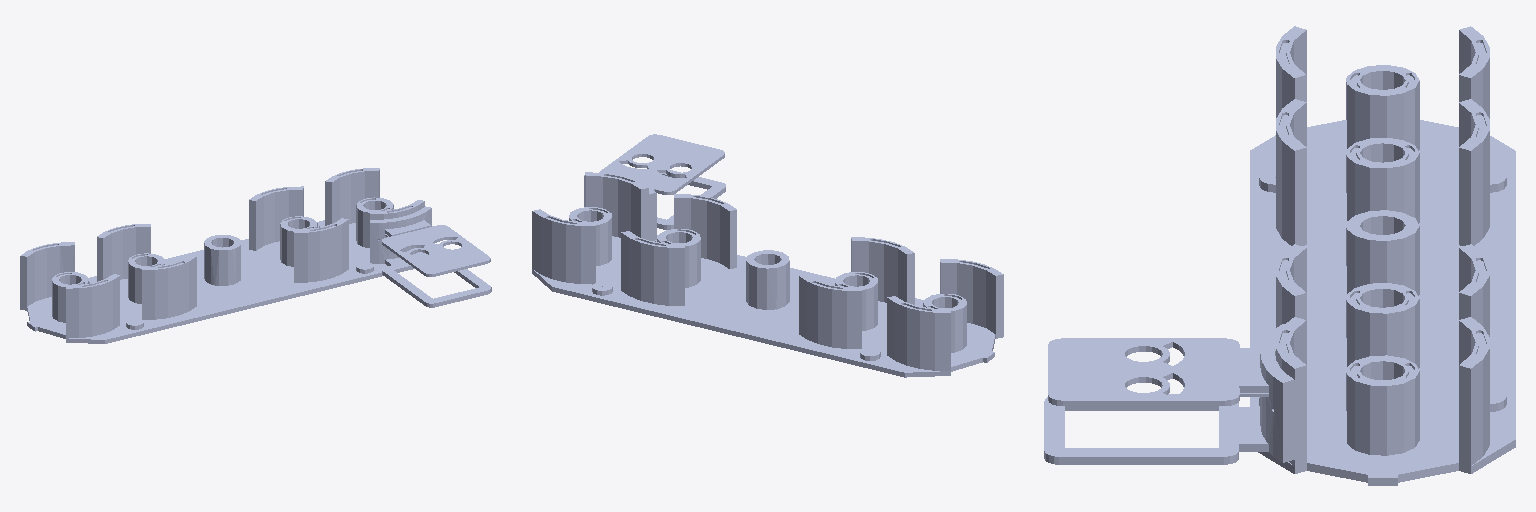
The robot description file, URDF, robot "solidworks2ros_try32":
<?xml version="1.0" encoding="utf-8"?>
<!-- This URDF was automatically created by SolidWorks to URDF Exporter! Originally created by [author] ([email redacted]) 
     Commit Version: 1.6.0-4-g7f85cfe  Build Version: 1.6.7995.38578
     For more information, please see http://wiki.ros.org/sw_urdf_exporter -->
<robot
  name="solidworks2ros_try32">

  <link name = "dummy">
  </link>

  <joint name="dummy_joint" type="fixed">
    <parent link="dummy"/>
    <child link="base_link"/>
  </joint>

  <link name="base_link">
    <inertial>
      <origin
        xyz="0.28984 -0.1528 0.31437"
        rpy="0 0 0" />
      <mass
        value="3158.6" />
      <inertia
        ixx="1559.2"
        ixy="5.8895E-06"
        ixz="0.005018"
        iyy="13506"
        iyz="-16.336"
        izz="14564" />
    </inertial>
    <visual>
      <origin
        xyz="0 0 0"
        rpy="0 0 0" />
      <geometry>
        <mesh
          filename="package://solidworks2ros_try32/meshes/base_link.STL" />
      </geometry>
      <material
        name="">
        <color
          rgba="0.79216 0.81961 0.93333 1" />
      </material>
    </visual>
    <collision>
      <origin
        xyz="0 0 0"
        rpy="0 0 0" />
      <geometry>
        <mesh
          filename="package://solidworks2ros_try32/meshes/base_link.STL" />
      </geometry>
    </collision>
  </link>

  <link name="link1">
    <inertial>
      <origin
        xyz="-0.0028443 0.0029656 1.6945"
        rpy="0 0 0" />
      <mass
        value="823.32" />
      <inertia
        ixx="2630.9"
        ixy="0.034568"
        ixz="-0.0063149"
        iyy="2630.9"
        iyz="0.23572"
        izz="118.2" />
    </inertial>
    <visual>
      <origin
        xyz="0 0 0"
        rpy="0 0 0" />
      <geometry>
        <mesh
          filename="package://solidworks2ros_try32/meshes/link1.STL" />
      </geometry>
      <material
        name="">
        <color
          rgba="0.79216 0.81961 0.93333 1" />
      </material>
    </visual>
    <collision>
      <origin
        xyz="0 0 0"
        rpy="0 0 0" />
      <geometry>
        <mesh
          filename="package://solidworks2ros_try32/meshes/link1.STL" />
      </geometry>
    </collision>
  </link>

  <joint name="joint1"
    type="continuous">
    <origin
      xyz="2.9619 -0.0029702 0.85629"
      rpy="0 0 0" />
    <parent
      link="base_link" />
    <child
      link="link1" />
    <axis
      xyz="0 0 -1" />
    <limit
      effort="100"
      velocity="2" />
  </joint>

  <transmission name="trans1">
    <type>transmission_interface/SimpleTransmission</type>
    <joint name="joint1">
      <hardwareInterface>hardware_interface/VelocityJointInterface</hardwareInterface>
    </joint>
    <actuator name="motor1">
      <hardwareInterface>hardware_interface/VelocityJointInterface</hardwareInterface>
      <mechanicalReduction>1</mechanicalReduction>
    </actuator>
  </transmission>

  <!-- Gazebo controller -->
  <gazebo>
      <plugin name="ros_control" filename="libgazebo_ros_control.so"/>
  </gazebo>

</robot>

--- Facts derived from the render (not from the file) ---
3 views of the same robot in one strip: view 1: azimuth 30°, elevation 25°; view 2: azimuth 150°, elevation 25°; view 3: azimuth 270°, elevation 25° (orthographic).
Model solidworks2ros_try32 with 3 links and 2 joints (1 continuous, 1 fixed), rooted at dummy, posed all joints at 0.
Links seen in each view (by area): view 1: base_link; view 2: base_link; view 3: base_link.
Boxes of the visible links, <box> form: base_link: <box>20,168,491,343</box>; base_link: <box>532,134,1003,377</box>; base_link: <box>1044,26,1515,485</box>.
Size in the robot's own frame: 7.44 by 4.06 by 1 metres.
Meshes: 2 distinct files referenced, 1 mesh visuals loaded (1 binary STL); not drawn: 1 (reference not matched to a file when rendering).